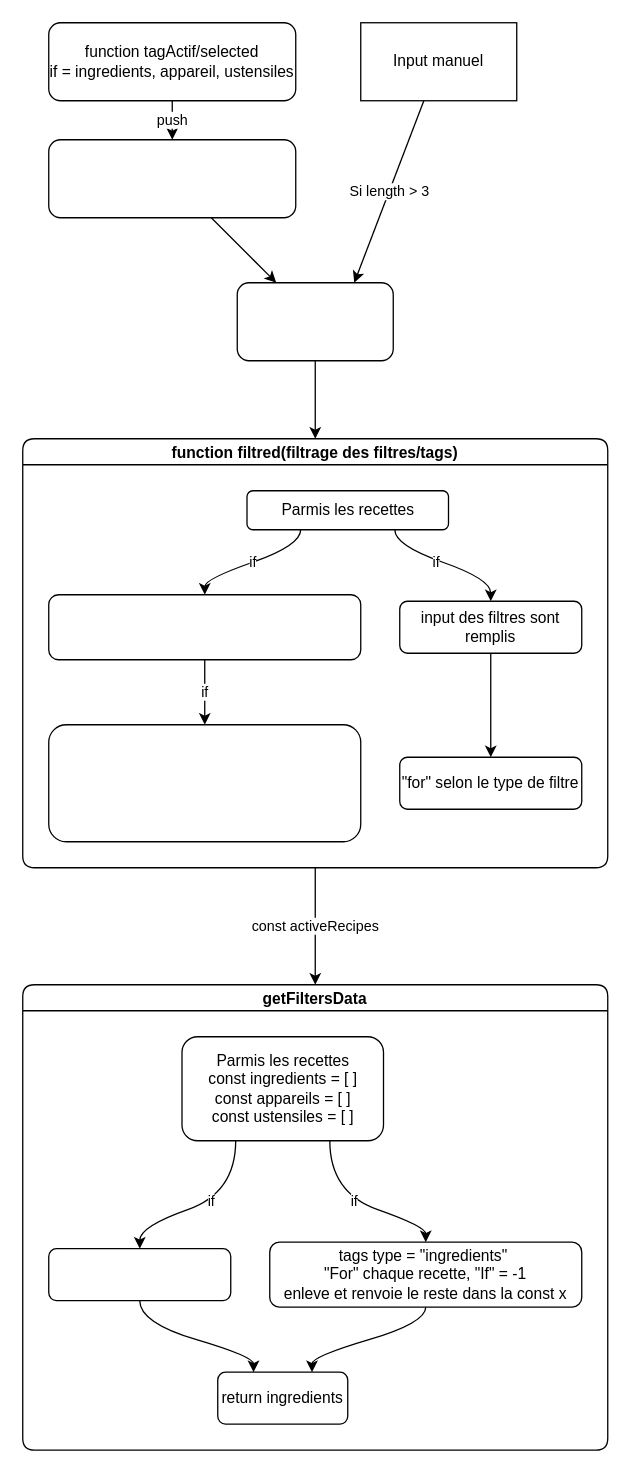
This 631x1473 diagram has some shape labels left out. Each missing label, with the centre of its shape:
comparaison nom || description || ingrédients avec une boucle "for/let": (204,782)
Function search parmisFiltreActifs: (314,321)
input valid, filtre selon input: (139,1274)
L'input principal est rempli :: (204,626)
var ingerdientFilterActif var appareilFilterActif var ustensilesFilterActif: (171,178)
